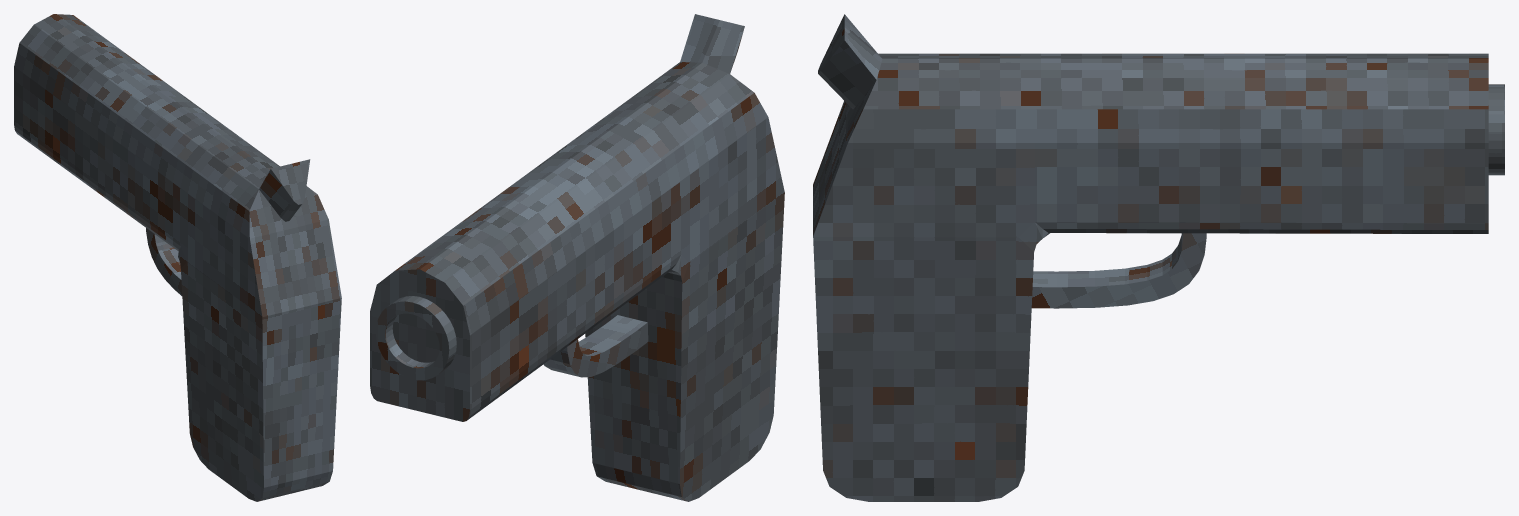
The model's file is Gun.fbx.
3 renders of one model, left to right at view 1: azimuth 30°, elevation 25°; view 2: azimuth 150°, elevation 25°; view 3: azimuth 270°, elevation 25°, orthographic. The views are drawn at different scales.
Visible parts, largest first — view 1: Cube; view 2: Cube; view 3: Cube.
Part boxes in pixels (left/top/right/bottom): Cube: left=14, top=14, right=341, bottom=501; Cube: left=370, top=14, right=784, bottom=501; Cube: left=813, top=14, right=1504, bottom=501.
Size of the model in its own units: 113 by 450 by 622.
Materials: 1 (1 with a texture image).
